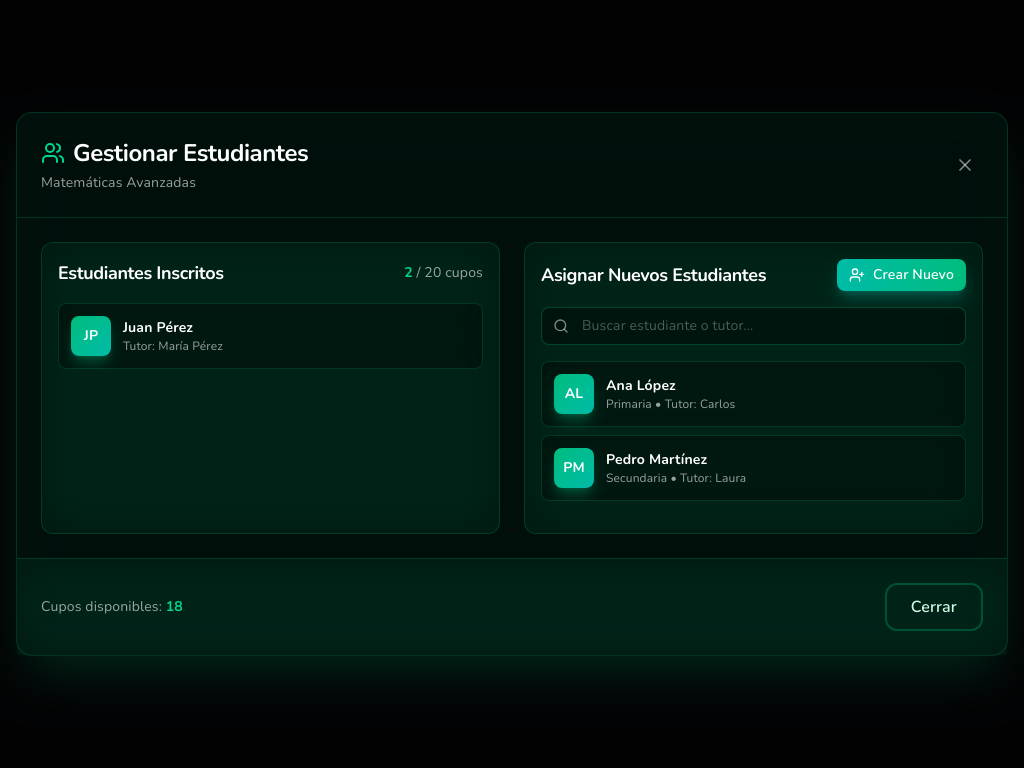
GestionarEstudiantesModal › Interacciones › selecciona estudiantes al hacer click
# Click en el estudiante disponible
Click the text "Ana López" at (641, 386), box [606,376,676,395]
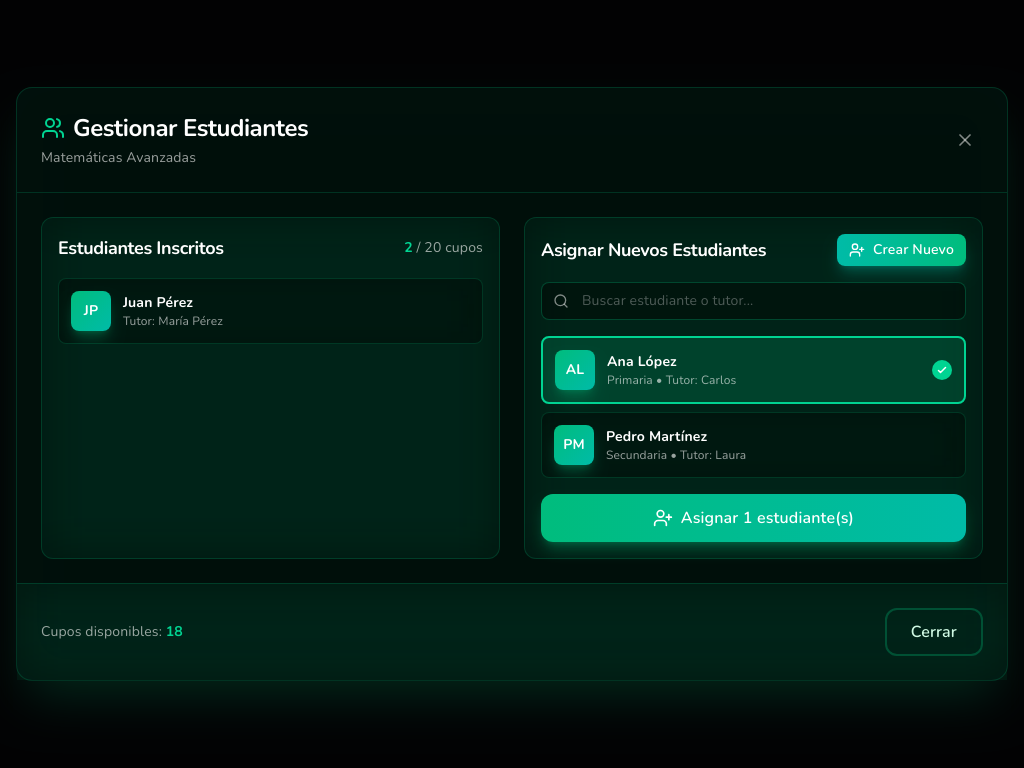
Now the button "Asignar 1 estudiante(s)" is shown, box [541,494,966,542]
